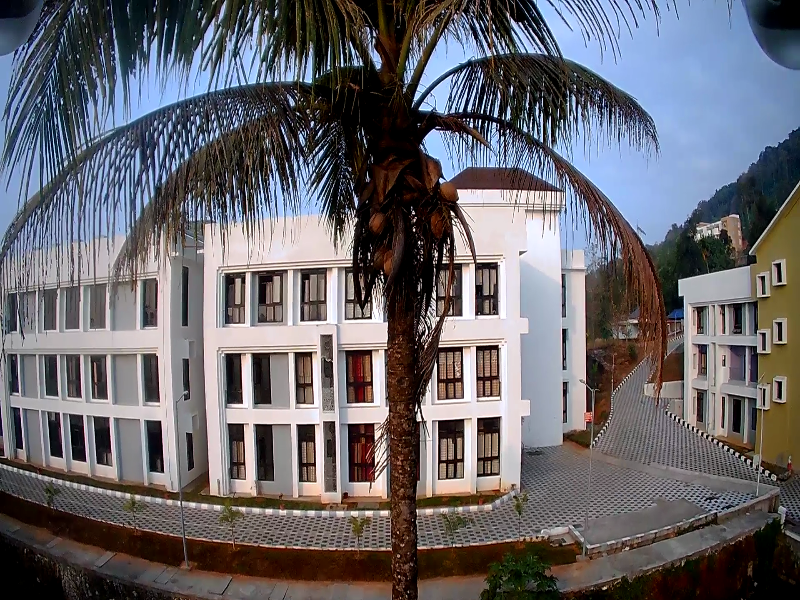coconut: (428, 217, 451, 240), (367, 207, 385, 235), (440, 181, 461, 205), (387, 254, 408, 276), (372, 249, 383, 264)
